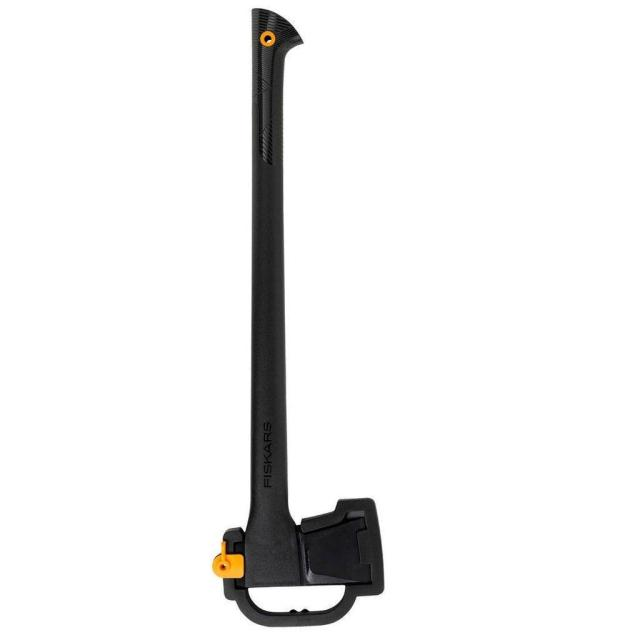Kapak: (232, 19, 406, 612)
